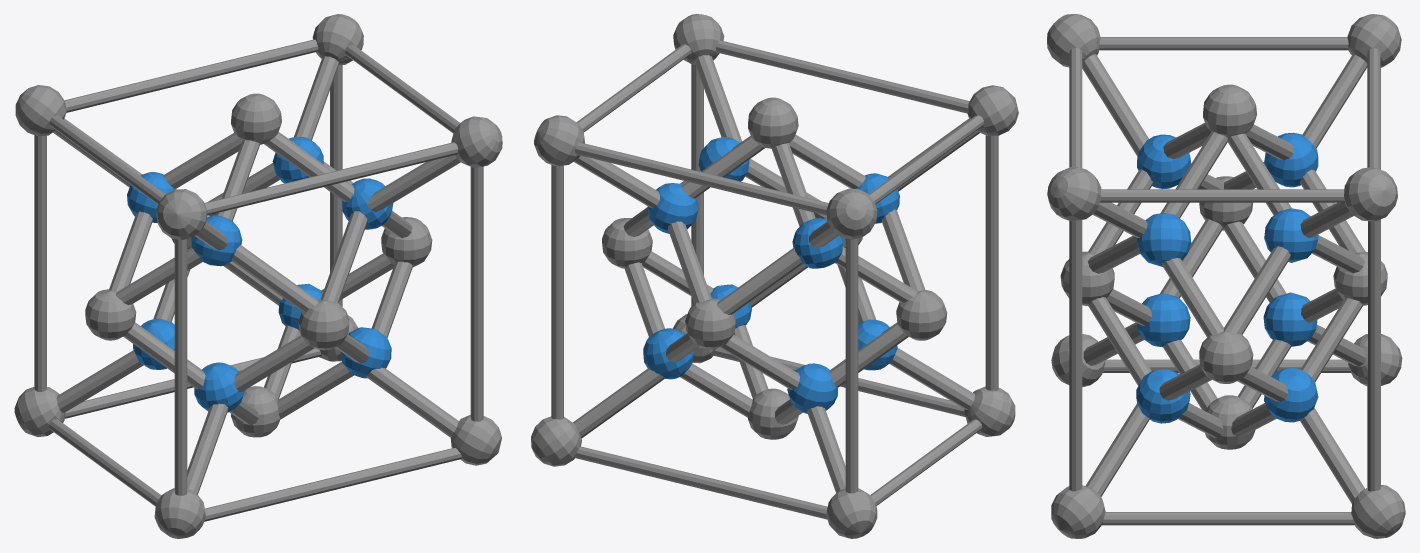
The picture shows the model from 3 angles, left to right: view 1: azimuth 30°, elevation 25°; view 2: azimuth 150°, elevation 25°; view 3: azimuth 270°, elevation 25°; orthographic projection. The views are drawn at different scales.
Parts seen in each view (by area): view 1: Cylinder038, Cylinder040, Cylinder036, Cylinder043, Cylinder042, Cylinder039, Sphere028, Cylinder041, Sphere004, Sphere023, Sphere031, Sphere011 (+41 smaller); view 2: Cylinder038, Cylinder039, Cylinder042, Cylinder043, Cylinder037, Cylinder041, Sphere020, Sphere004, Sphere033, Sphere030, Sphere029, Sphere013 (+40 smaller); view 3: Cylinder040, Cylinder041, Cylinder047, Cylinder044, Cylinder045, Sphere023, Sphere029, Sphere032, Sphere038, Sphere030, Sphere004, Sphere034 (+48 smaller).
Boxes of the visible parts, left/top/right/bottom form: Cylinder038: left=174, top=239, right=187, bottom=495; Cylinder040: left=470, top=166, right=483, bottom=421; Cylinder036: left=204, top=448, right=461, bottom=521; Cylinder043: left=64, top=39, right=318, bottom=112; Cylinder042: left=204, top=142, right=458, bottom=215; Cylinder039: left=34, top=135, right=46, bottom=391; Sphere028: left=156, top=189, right=207, bottom=240; Cylinder041: left=330, top=65, right=342, bottom=306; Sphere004: left=231, top=93, right=281, bottom=144; Sphere023: left=451, top=116, right=502, bottom=167; Sphere031: left=154, top=488, right=205, bottom=538; Sphere011: left=298, top=299, right=349, bottom=350; Cylinder038: left=985, top=135, right=998, bottom=390; Cylinder039: left=845, top=238, right=858, bottom=493; Cylinder042: left=716, top=40, right=969, bottom=113; Cylinder043: left=575, top=142, right=828, bottom=215; Cylinder037: left=574, top=446, right=827, bottom=519; Cylinder041: left=551, top=165, right=563, bottom=419; Sphere020: left=826, top=188, right=877, bottom=239; Sphere004: left=748, top=97, right=798, bottom=148; Sphere033: left=826, top=488, right=877, bottom=538; Sphere030: left=531, top=416, right=581, bottom=466; Sphere029: left=534, top=115, right=584, bottom=165; Sphere013: left=896, top=290, right=947, bottom=340; Cylinder040: left=1069, top=220, right=1082, bottom=491; Cylinder041: left=1368, top=219, right=1380, bottom=491; Cylinder047: left=1102, top=512, right=1354, bottom=525; Cylinder044: left=1099, top=37, right=1348, bottom=50; Cylinder045: left=1100, top=189, right=1345, bottom=202; Sphere023: left=1047, top=167, right=1101, bottom=221; Sphere029: left=1344, top=167, right=1397, bottom=221; Sphere032: left=1051, top=485, right=1105, bottom=538; Sphere038: left=1199, top=331, right=1253, bottom=383; Sphere030: left=1351, top=485, right=1405, bottom=538; Sphere004: left=1203, top=84, right=1257, bottom=137; Sphere034: left=1137, top=213, right=1191, bottom=266.
Bounding box in the file's own units: 98.62 × 97.51 × 84.63.
